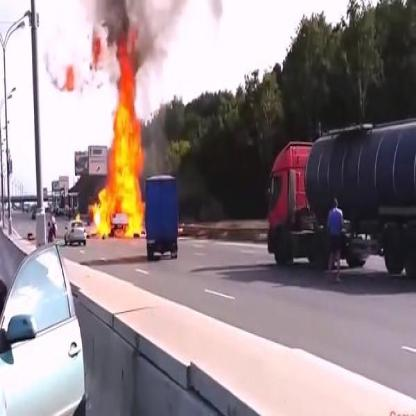fire: (90, 26, 146, 241)
